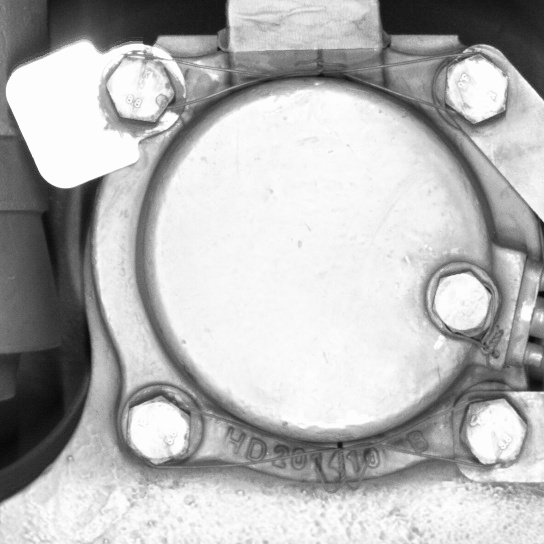IronWire: (112, 380, 536, 483), (96, 37, 514, 134)
Screw: (94, 38, 182, 133), (112, 378, 199, 472), (450, 384, 535, 476), (431, 43, 514, 135), (424, 254, 501, 353)
